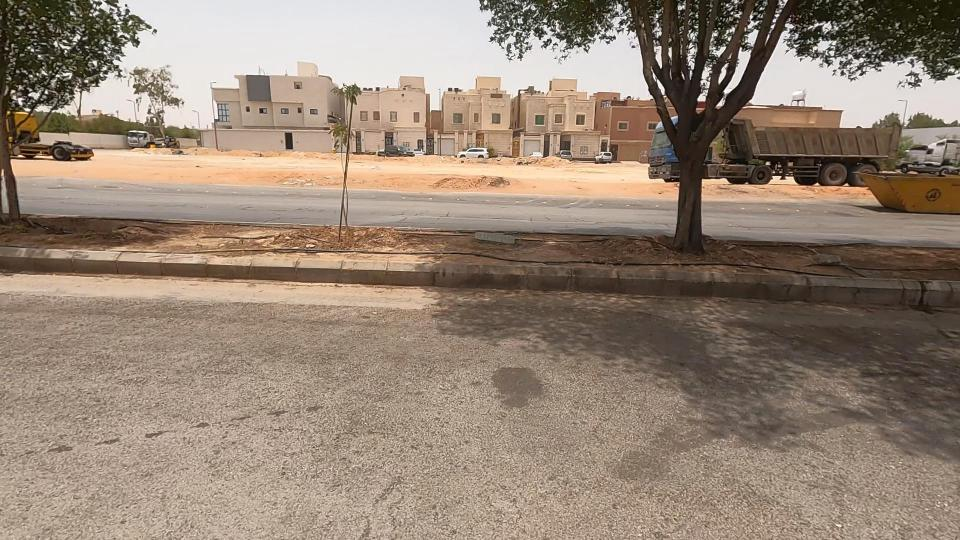CLUTTER_SIDEWALK: (13, 169, 434, 300), (297, 188, 701, 294), (676, 197, 960, 311)
